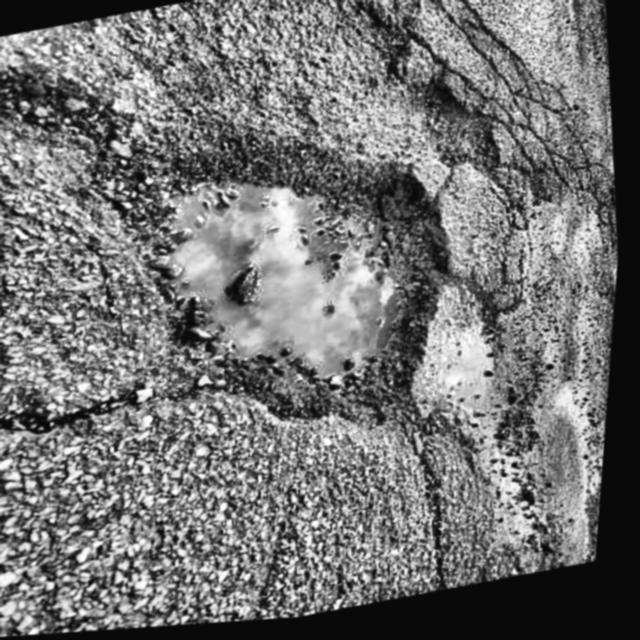Cracks: (151, 173, 448, 429)
